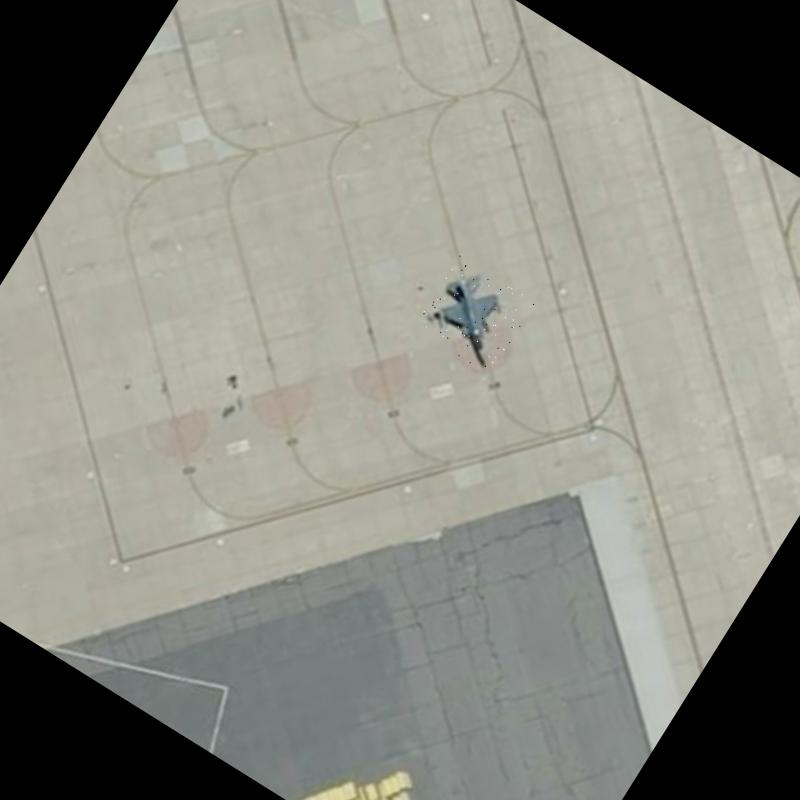A5: (409, 254, 536, 378)
